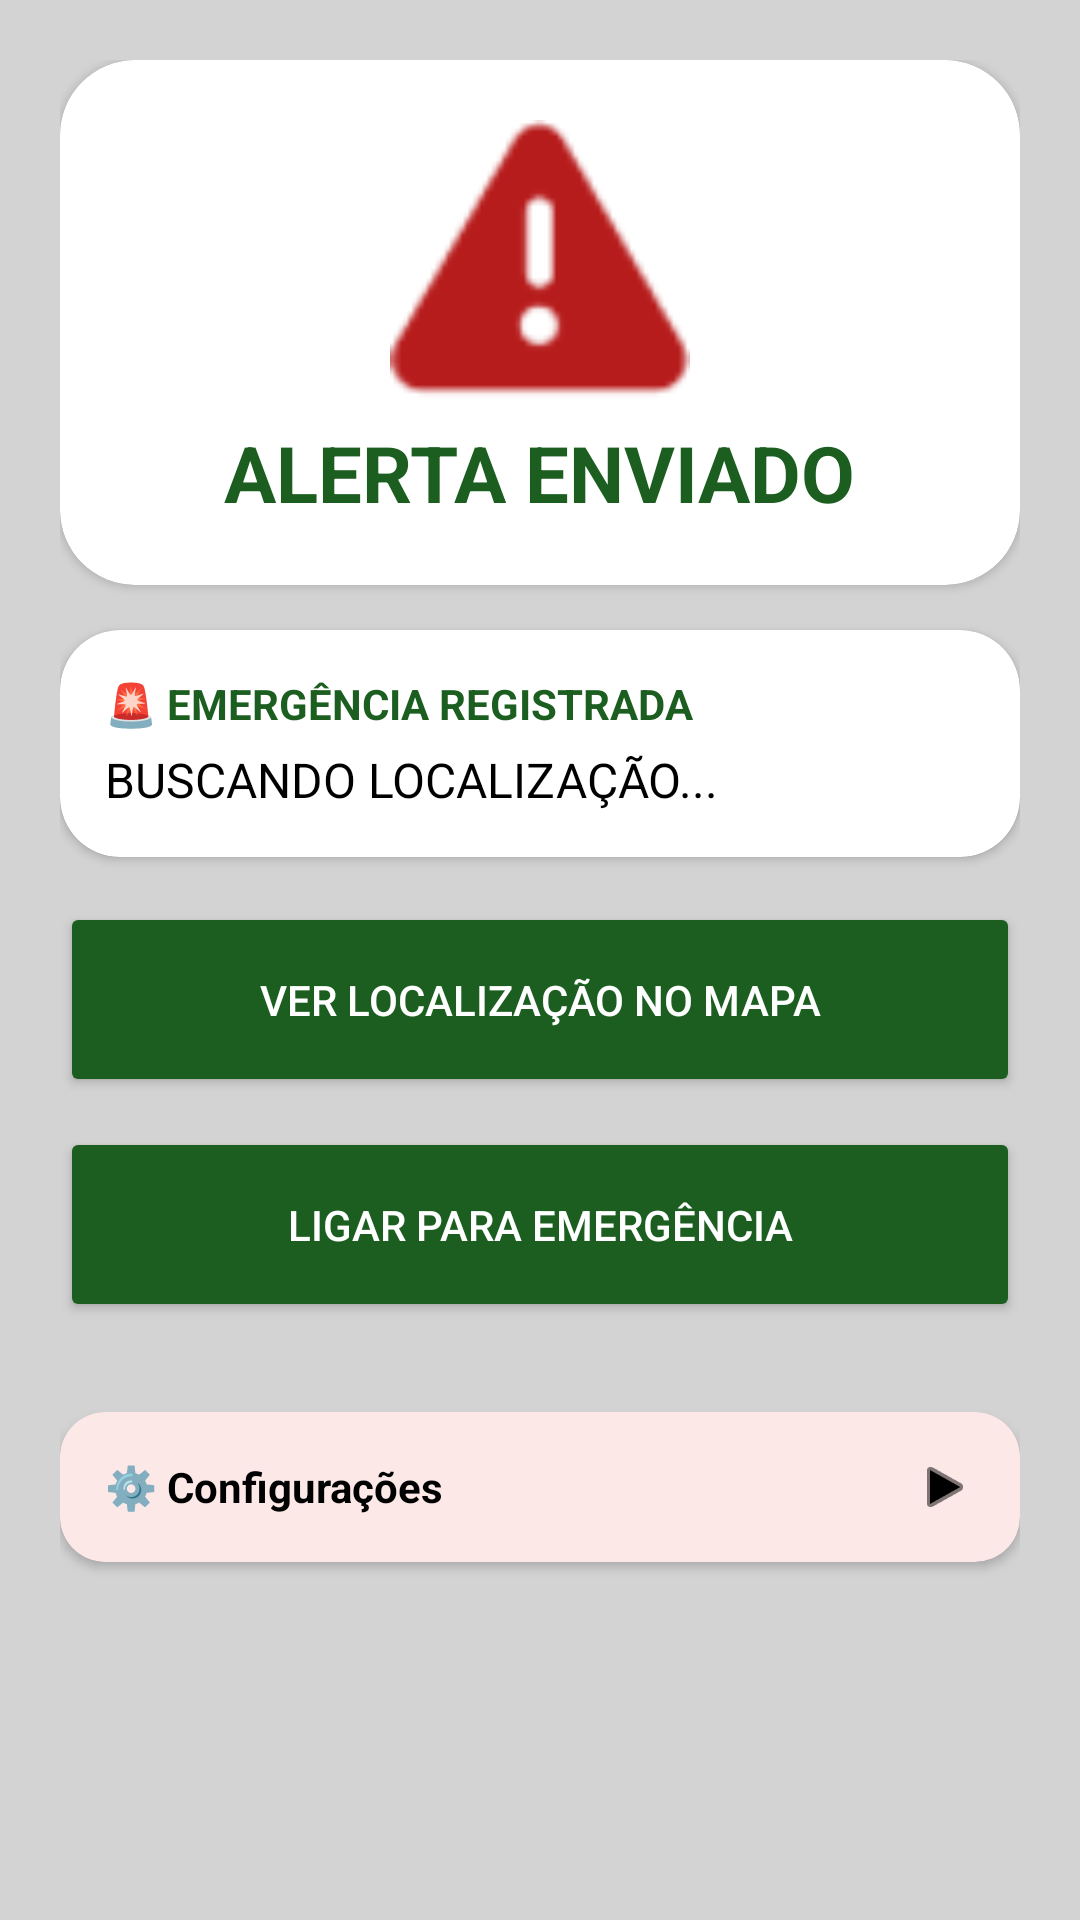

Where to tap for icons on this 1080px x 1920px app screen, as (x,y):
play: (945,1487)
